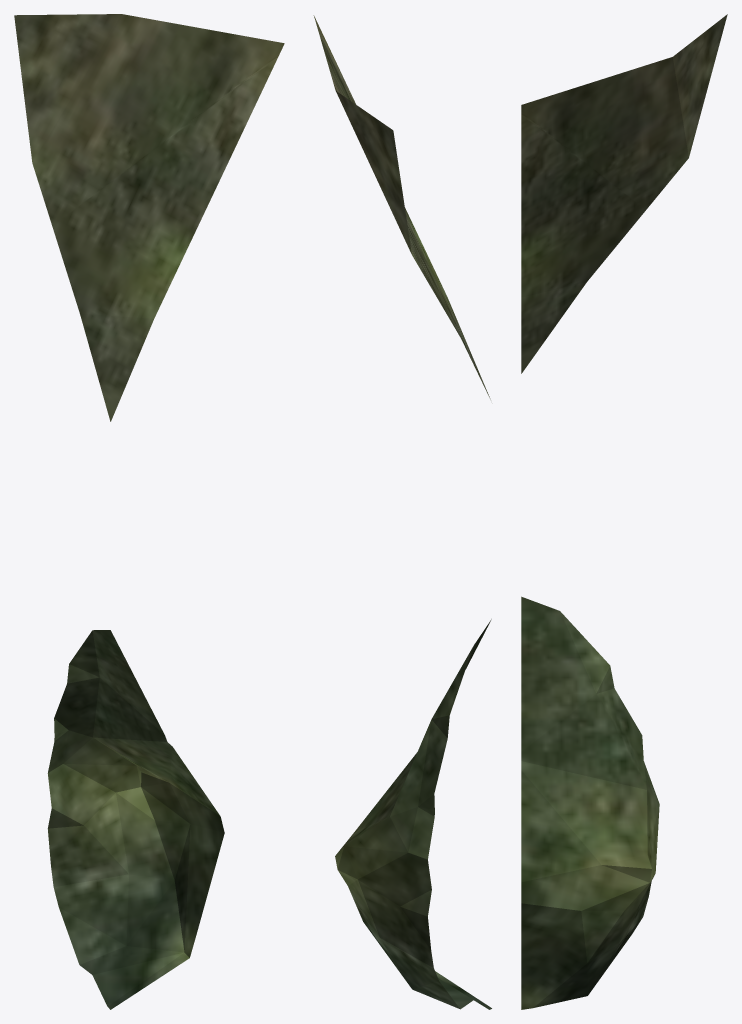
The picture shows the model from 3 angles, left to right: view 1: azimuth 30°, elevation 25°; view 2: azimuth 150°, elevation 25°; view 3: azimuth 270°, elevation 25°; orthographic projection. The views are drawn at different scales.
Size of the model in its own units: 0.5532 by 2.8 by 0.5305.
1 material, 1 textured.
